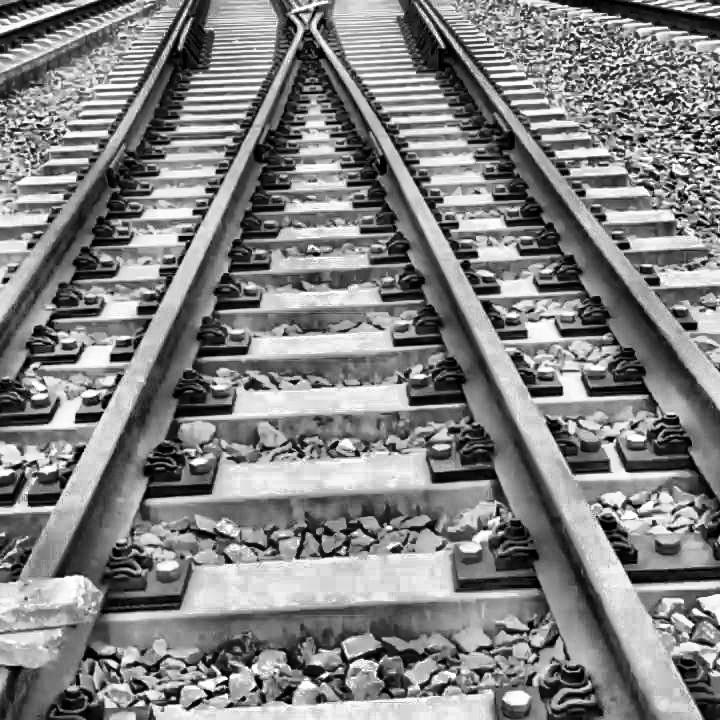Rock: (0, 570, 98, 674)
